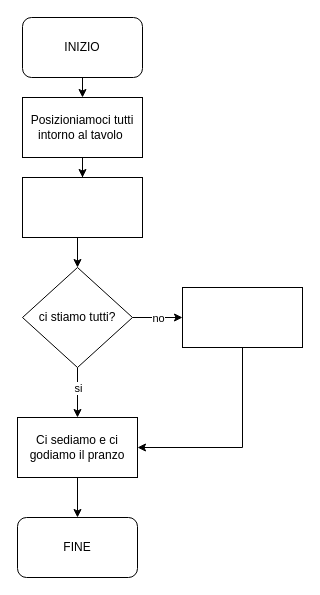
Image size: 320x595. Some labels were removed from this diagram. The centre of each missing label's shape, as x and y in pixels:
"cominciamo a contare i posti a 2 a 2" goes at point 82,207.
"Disponiamo una sedia, un piatto e le posate per la persona scoperta" goes at point 242,317.
